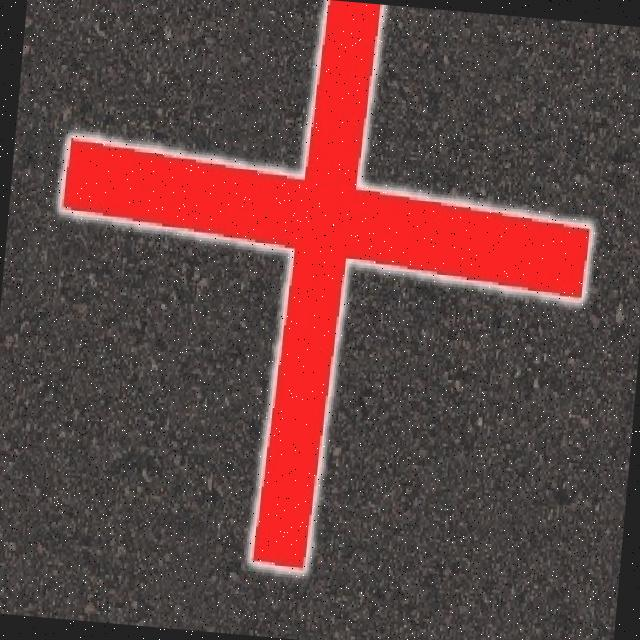x_marker: (30, 0, 608, 593)
